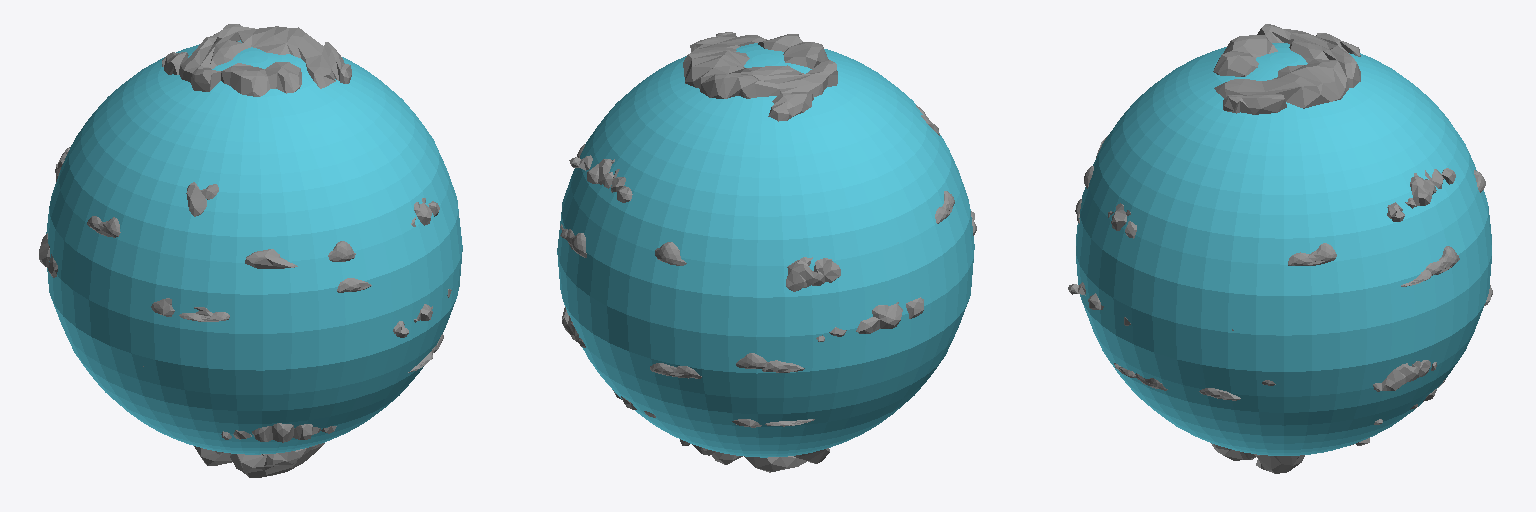
3 views of the same model, side by side, from view 1: azimuth 30°, elevation 25°; view 2: azimuth 150°, elevation 25°; view 3: azimuth 270°, elevation 25° (orthographic).
Parts seen in each view (by area): view 1: hoth_sky, cloud18, clouds2, cloud17; view 2: hoth_sky, cloud18, clouds2, cloud17; view 3: hoth_sky, cloud18, clouds2, cloud17.
Part boxes in pixels (x1,y1,x2,y2): hoth_sky: (46,40,462,454); cloud18: (162,24,351,96); clouds2: (39,147,451,442); cloud17: (194,443,324,477); hoth_sky: (557,43,974,457); cloud18: (683,32,837,121); clouds2: (560,105,976,427); cloud17: (680,439,829,472); hoth_sky: (1076,43,1491,455); cloud18: (1213,24,1360,114); clouds2: (1068,136,1492,424); cloud17: (1211,438,1369,473).
Bounding box in the file's own units: 210 × 227 × 214.
Materials: 2 (1 with a texture image).